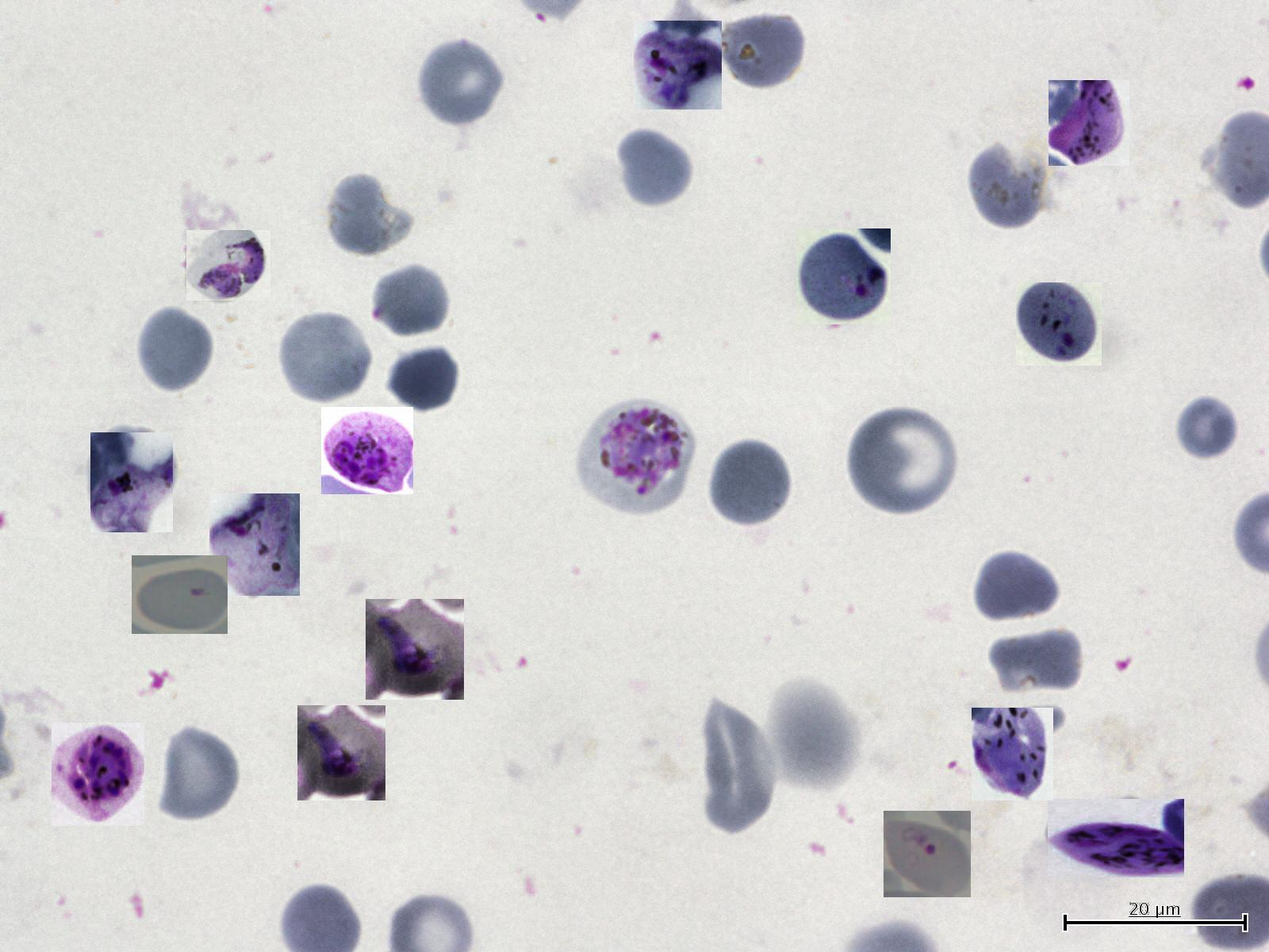Infected: (584, 404, 696, 512), (1048, 799, 1184, 877), (366, 600, 464, 701), (52, 723, 144, 826), (209, 493, 300, 596), (796, 228, 891, 324), (297, 705, 385, 800), (90, 432, 173, 532), (322, 407, 414, 494), (634, 21, 722, 109), (132, 555, 228, 634), (884, 811, 971, 897), (972, 708, 1053, 800), (1016, 282, 1102, 366), (1049, 80, 1129, 166), (186, 230, 270, 301)
Uninfected: (851, 409, 957, 515), (702, 701, 777, 840), (277, 309, 374, 405), (964, 136, 1052, 232), (155, 726, 240, 824), (416, 36, 505, 128), (712, 6, 807, 92), (706, 437, 793, 528), (320, 172, 408, 261), (970, 550, 1064, 628), (988, 624, 1084, 699), (135, 305, 215, 393), (612, 126, 694, 209), (369, 263, 450, 339), (384, 343, 462, 416), (1169, 392, 1240, 467)
